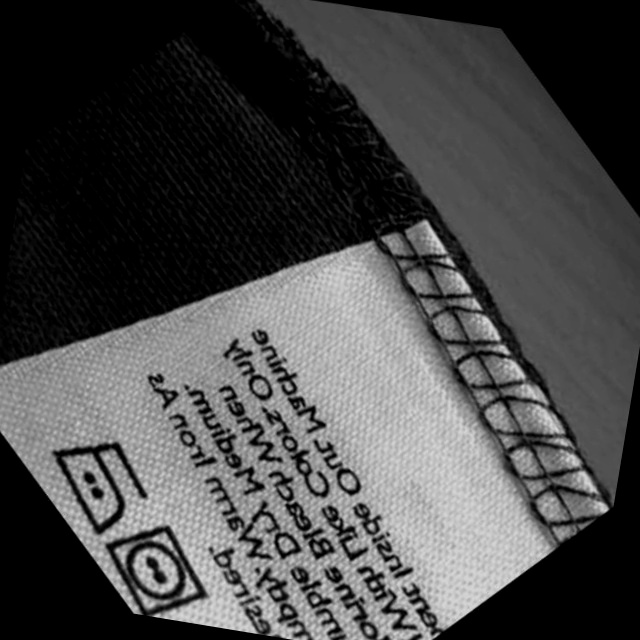iron_medium: (34, 429, 154, 538)
tumble_dry_medium: (93, 517, 216, 623)
